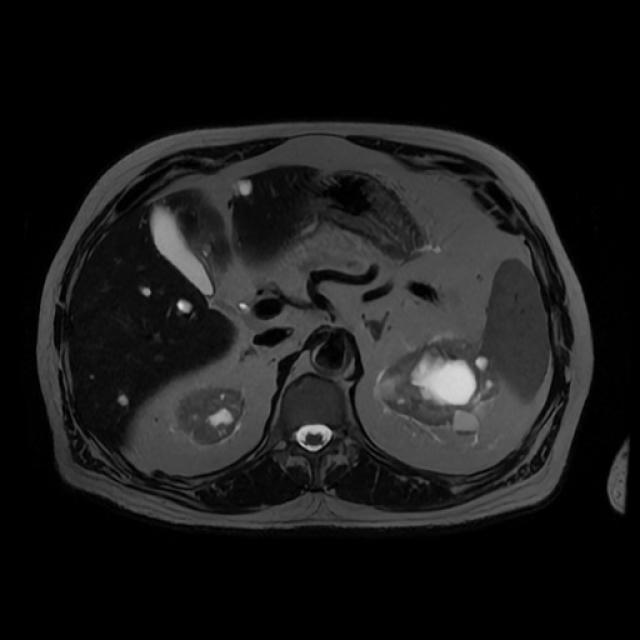sag: (174, 388, 247, 446)
sol: (374, 338, 501, 433)
